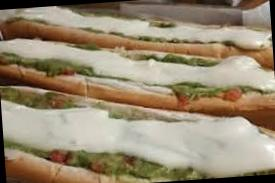Completos: (0, 18, 275, 117), (6, 0, 271, 67)
